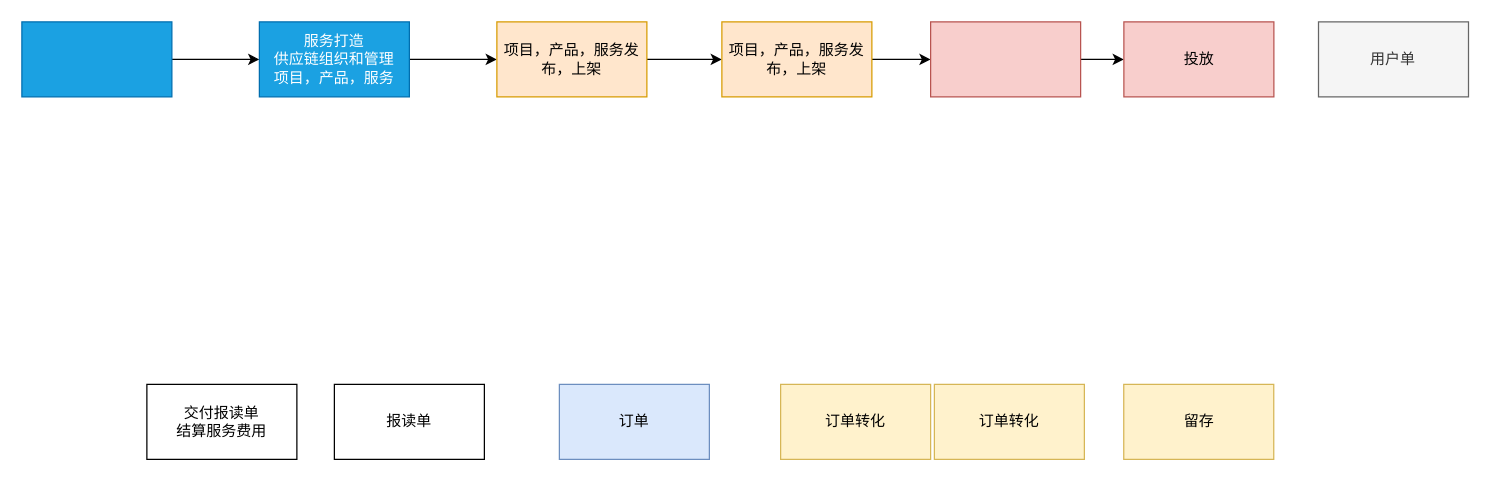
This 1491x481 diagram has some shape labels left out. The centre of each missing label's shape, as x and y in pixels:
"市场渠道" belongs at point (1005, 59).
"服务供应 供应链组织和管理 项目，产品，服务" belongs at point (96, 59).
